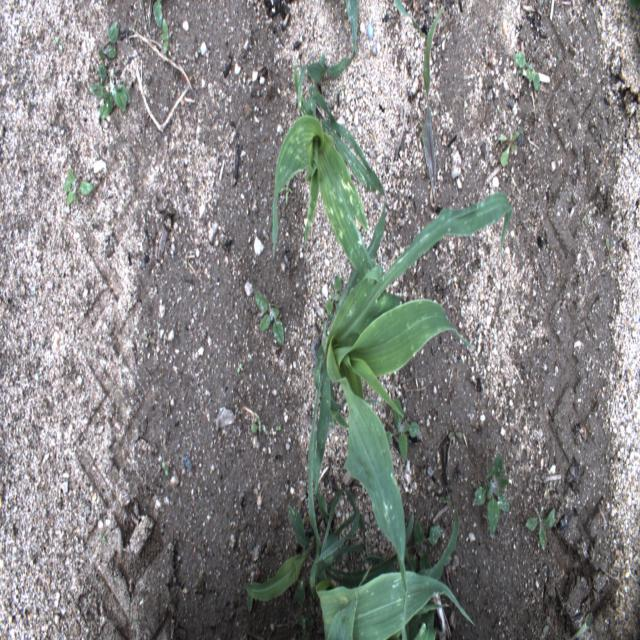crop: (313, 190, 512, 616), (244, 371, 416, 604), (271, 54, 391, 326), (316, 504, 477, 639)
weed: (423, 6, 443, 213), (473, 450, 509, 534), (378, 396, 420, 462), (406, 518, 442, 582), (87, 74, 133, 116), (254, 289, 282, 344), (98, 19, 120, 87), (64, 168, 95, 208), (526, 508, 553, 550), (498, 126, 522, 169), (515, 51, 539, 92), (326, 274, 343, 313), (279, 176, 293, 205), (159, 20, 170, 52), (447, 422, 464, 440), (604, 236, 614, 266), (251, 417, 266, 435), (154, 0, 163, 29), (541, 615, 551, 635), (140, 334, 156, 346), (626, 0, 640, 11), (160, 461, 168, 478), (236, 361, 243, 375), (98, 534, 107, 543), (274, 425, 282, 432), (136, 619, 142, 625)
